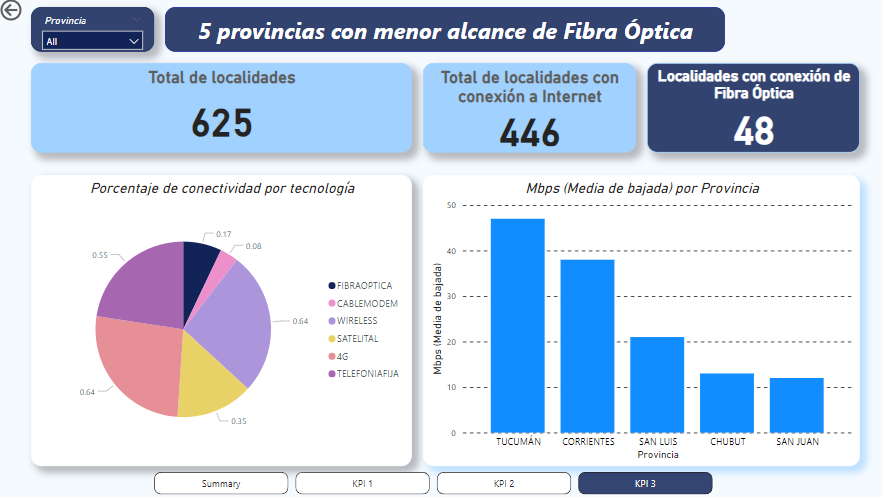

This screenshot's page, from the dashboard's own definition file:
{"tool":"powerbi","page":{"name":"KPI 3","canvas":[1280,720],"ordinal":3},"visuals":[{"type":"actionButton","box":[0,0,100,40],"z":0},{"type":"textbox","box":[240,16,800,64],"z":1000},{"type":"slicer","fields":{"Values":["Provincias.Provincia"]},"box":[48,16,176,64],"z":2000},{"type":"pieChart","title":"Porcentaje de conectividad por tecnología","fields":{"Y":["Avg(conectividad_por_localidad.FIBRAOPTICA)","Avg(conectividad_por_localidad.CABLEMODEM)","Avg(conectividad_por_localidad.WIRELESS)","Avg(conectividad_por_localidad.SATELITAL)","Avg(conectividad_por_localidad.4G)","Avg(conectividad_por_localidad.TELEFONIAFIJA)"]},"box":[48,256,544,416],"z":3000},{"type":"card","title":"Total de localidades","fields":{"Values":["CountNonNull(conectividad_por_localidad.CONECTIVIDAD)"]},"box":[48,96,544,128],"z":4000},{"type":"card","title":"Localidades con conexión de Fibra Óptica","fields":{"Values":["CountNonNull(conectividad_por_localidad.CONECTIVIDAD)"]},"box":[928,96,304,128],"z":5000},{"type":"clusteredColumnChart","title":"Mbps (Media de bajada) por Provincia","fields":{"Y":["Avg(Velocidad_media_bajada_por_provincia.Mbps (Media de bajada))"],"Category":["Provincias.Provincia"]},"box":[608,256,624,416],"z":6000},{"type":"card","title":"Total de localidades con conexión a Internet","fields":{"Values":["CountNonNull(conectividad_por_localidad.CONECTIVIDAD)"]},"box":[608,96,304,128],"z":7000}]}

Visuals, with their boxes in screenshot pixels (x1, y1, x2, y2), scaled from the page's 1280x720 canvas onto the 883x497 screenshot:
actionButton: 0/0/69/28
textbox: 166/11/717/55
slicer - Provincias.Provincia: 33/11/155/55
"Porcentaje de conectividad por tecnología" pieChart: 33/177/408/464
"Total de localidades" card: 33/66/408/155
"Localidades con conexión de Fibra Óptica" card: 640/66/850/155
"Mbps (Media de bajada) por Provincia" clusteredColumnChart: 419/177/850/464
"Total de localidades con conexión a Internet" card: 419/66/629/155
